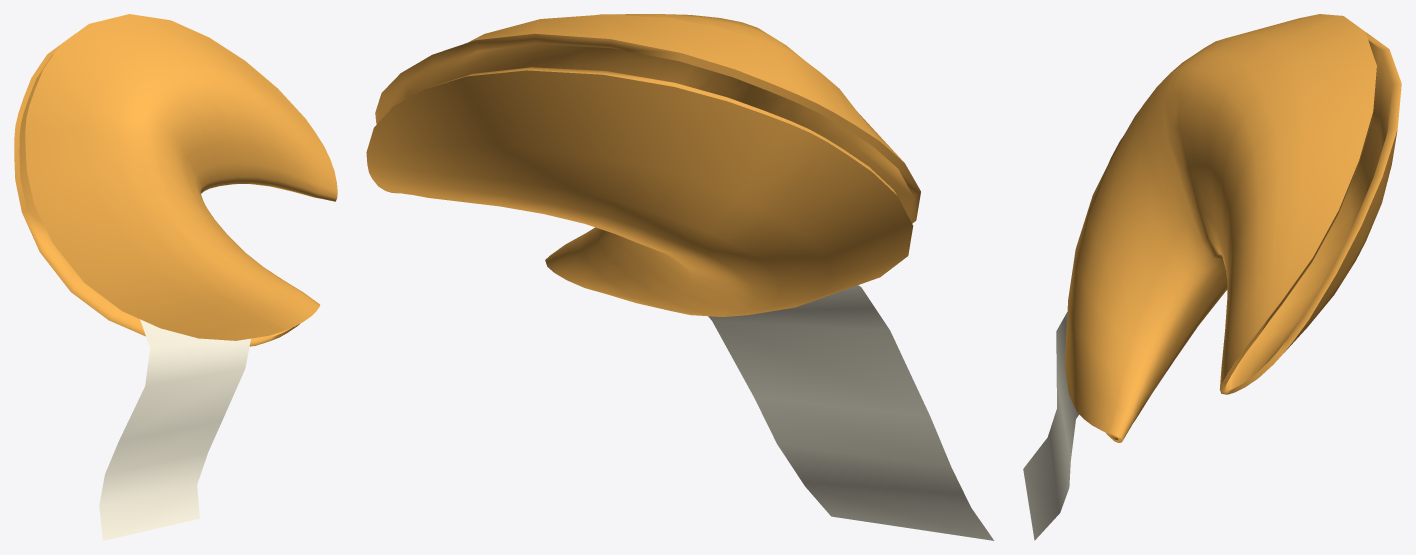
File: fortune_cookie.gltf
3 renders of one model, left to right at view 1: azimuth 30°, elevation 25°; view 2: azimuth 150°, elevation 25°; view 3: azimuth 270°, elevation 25°, orthographic. The views are drawn at different scales.
Parts seen in each view (by area): view 1: Plane.218; view 2: Plane.218; view 3: Plane.218.
Boxes of the visible parts, x1=… form: Plane.218: x1=14, y1=14, x2=337, y2=540; Plane.218: x1=366, y1=14, x2=994, y2=540; Plane.218: x1=1023, y1=14, x2=1401, y2=540.
Size of the model in its own units: 1.89 by 2.23 by 1.47.
Materials: 1 (1 with a texture image).
